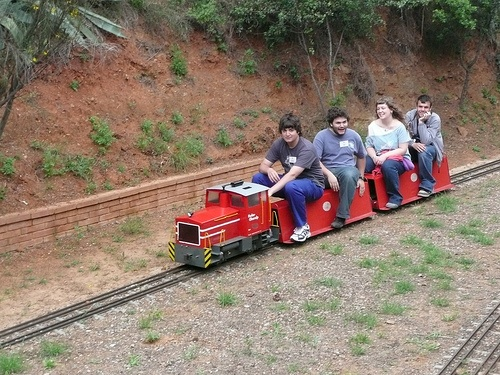head: (280, 115, 302, 143), (414, 93, 436, 121), (375, 97, 397, 125), (328, 109, 350, 137)
person: (250, 114, 324, 242), (312, 107, 365, 228), (364, 94, 411, 214), (404, 94, 443, 198)
